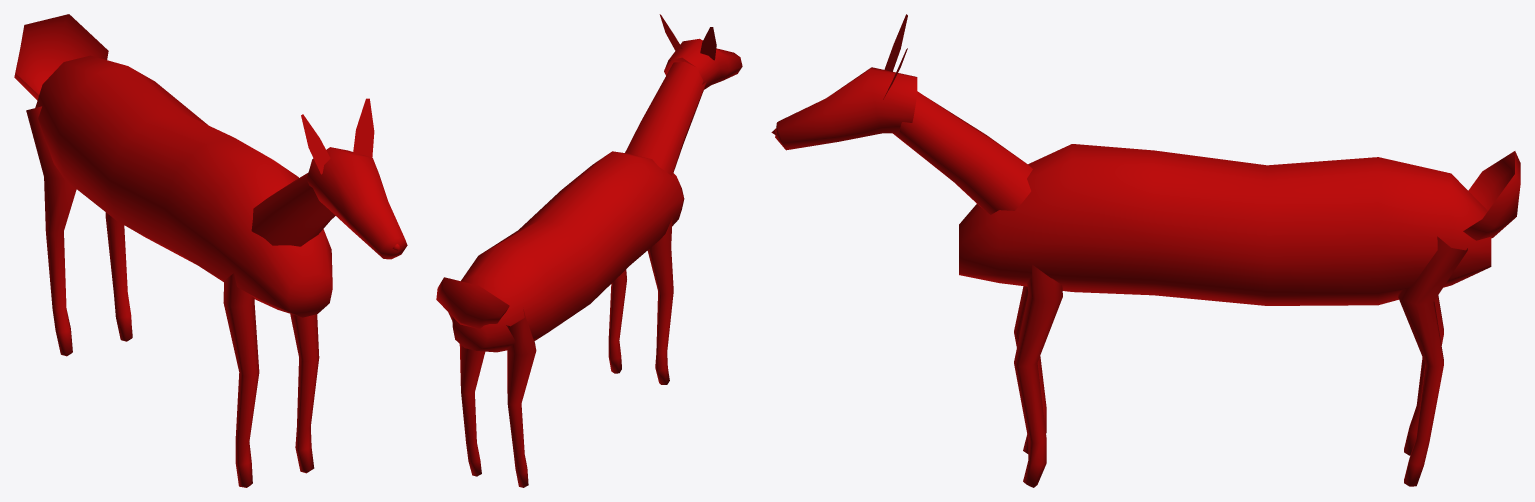
The model's file is roedeer.glb.
3 views of the same model, side by side, from view 1: azimuth 30°, elevation 25°; view 2: azimuth 150°, elevation 25°; view 3: azimuth 270°, elevation 25° (orthographic). The views are drawn at different scales.
Visible parts, largest first — view 1: body, head, leg_lh, leg_lf, tail, leg_rf, leg_rh; view 2: body, head, leg_lh, leg_lf, tail, leg_rh, leg_rf; view 3: body, head, leg_rh, leg_rf, tail, leg_lh.
Part boxes in pixels (left/top/right/bottom): body: left=35, top=55, right=332, bottom=317; head: left=251, top=98, right=407, bottom=259; leg_lh: left=26, top=106, right=76, bottom=356; leg_lf: left=223, top=273, right=259, bottom=487; tail: left=14, top=14, right=108, bottom=100; leg_rf: left=290, top=314, right=319, bottom=473; leg_rh: left=105, top=212, right=132, bottom=341; body: left=452, top=151, right=684, bottom=352; head: left=625, top=14, right=742, bottom=175; leg_lh: left=506, top=309, right=536, bottom=487; leg_lf: left=647, top=218, right=673, bottom=384; tail: left=436, top=277, right=509, bottom=328; leg_rh: left=448, top=312, right=485, bottom=476; leg_rf: left=608, top=269, right=626, bottom=373; body: left=959, top=144, right=1491, bottom=305; head: left=771, top=14, right=1032, bottom=214; leg_rh: left=1398, top=236, right=1467, bottom=486; leg_rf: left=1014, top=264, right=1062, bottom=487; tail: left=1463, top=151, right=1520, bottom=240; leg_lh: left=1404, top=295, right=1443, bottom=455.
Bounding box in the file's own units: 0.2891 × 1.04 × 1.61.
